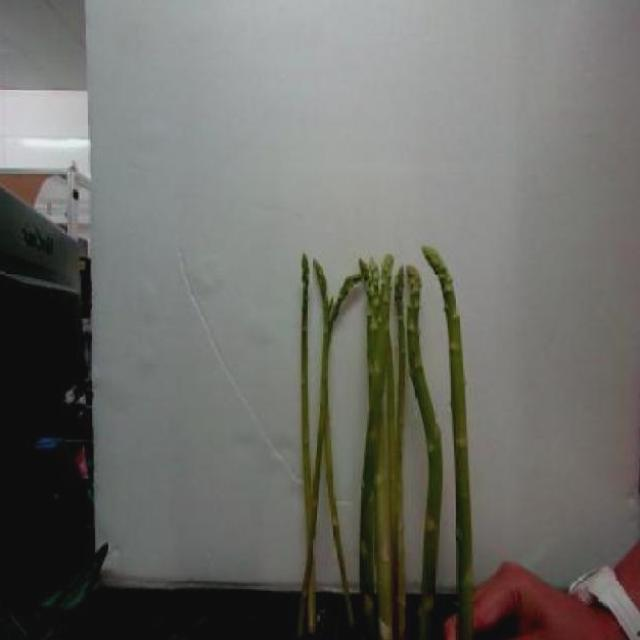aspargus: (423, 248, 474, 640), (406, 262, 446, 638)
